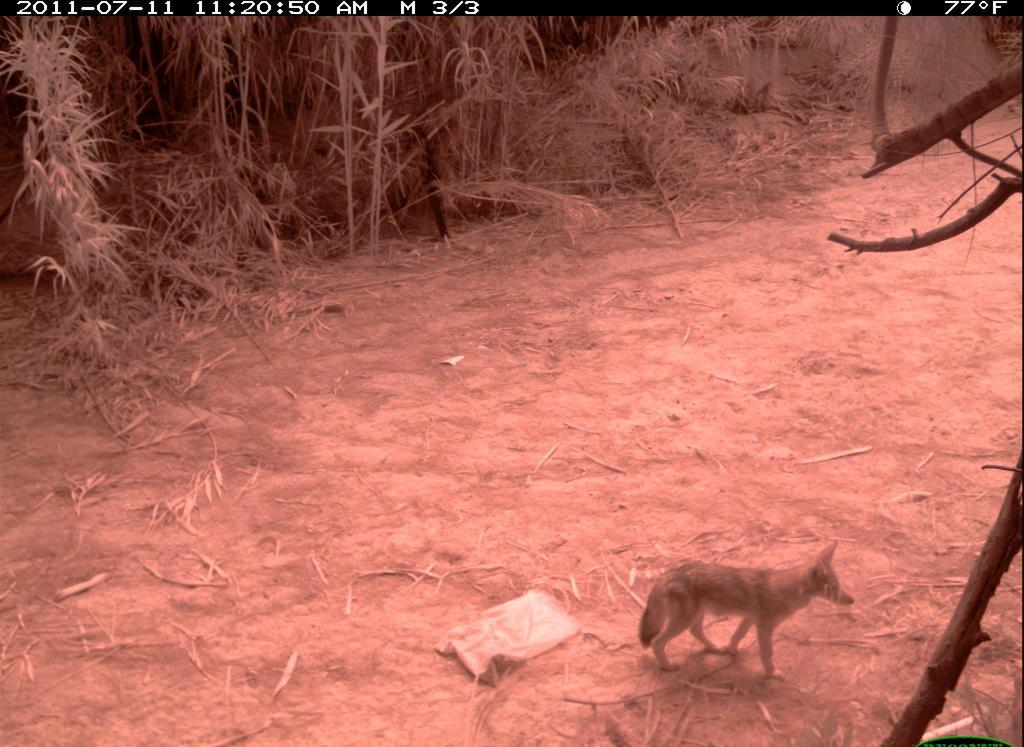coyote: (619, 523, 861, 687)
